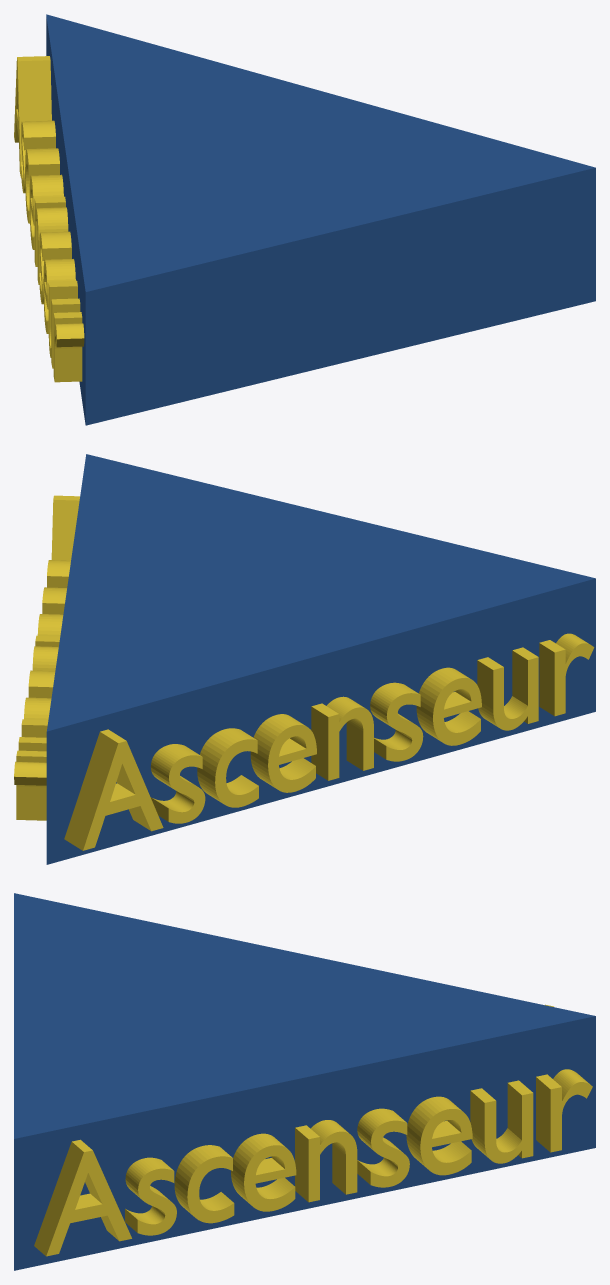
The model's file is Ascenseur.fbx.
The picture shows the model from 3 angles, top to bottom: view 1: azimuth 30°, elevation 25°; view 2: azimuth 150°, elevation 25°; view 3: azimuth 270°, elevation 25°; orthographic projection.
Parts seen in each view (by area): view 1: Cube, Text.001; view 2: Cube, Text.001, Text; view 3: Cube, Text.
Part boxes in pixels (x1,y1,x2,y2): Cube: [46, 14, 595, 425]; Text.001: [14, 56, 84, 382]; Cube: [46, 454, 595, 864]; Text.001: [64, 633, 594, 850]; Text: [14, 495, 79, 820]; Cube: [14, 893, 595, 1270]; Text: [34, 1069, 592, 1256].
Bounding box in the file's own units: 66.66 × 15.84 × 63.36.
